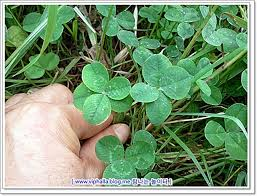4-clover: (134, 54, 190, 124)
